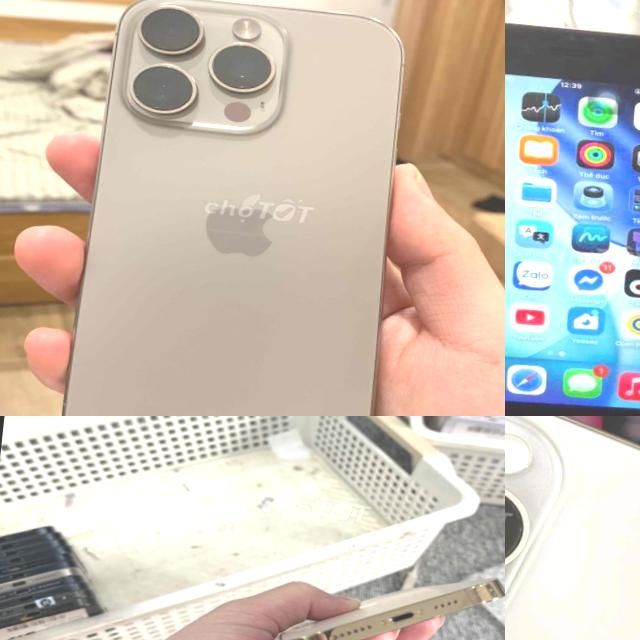gen_12_13: (265, 553, 505, 640)
gen_15: (505, 416, 640, 640)
gen_16: (63, 0, 403, 416)
gen_7_8: (505, 6, 640, 416)
